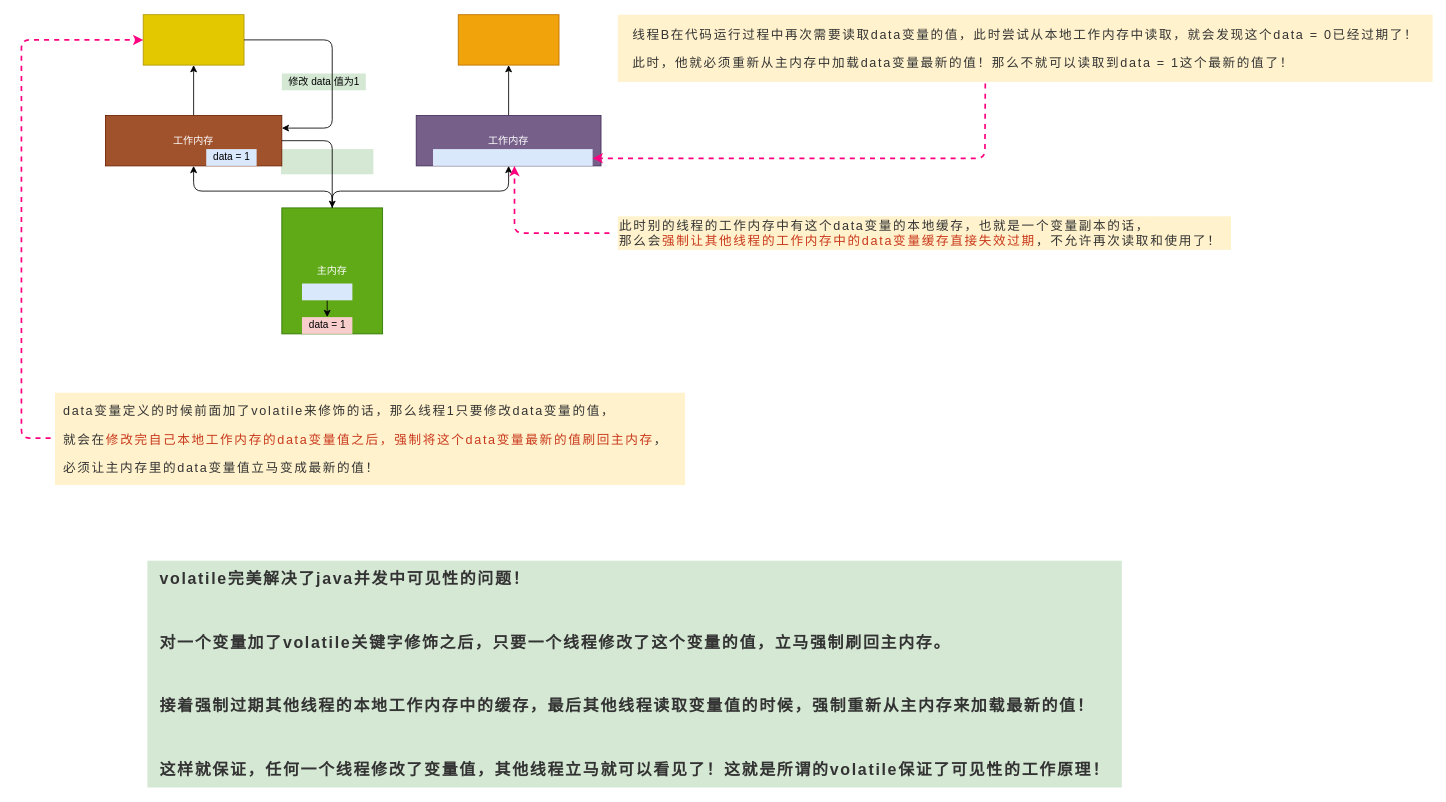
This 1446x802 diagram has some shape labels left out. Here are the shapes that lost their labels. From the top down, the centre of each, then its label:
pixel 193 39: 线程A
pixel 508 39: 线程B
pixel 327 161: 强制刷新 主内存 data 由 0 --> 1
pixel 512 157: data = 0(强制过期) --> data = 1
pixel 327 291: data = 0
